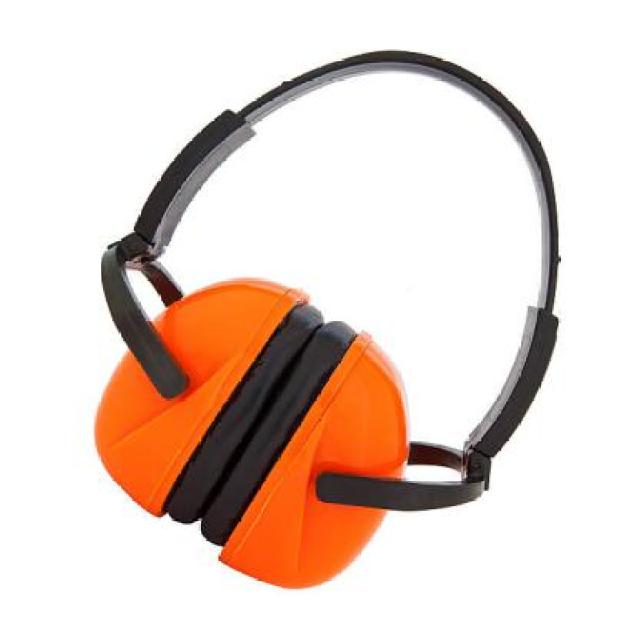Ear-protection: (102, 94, 563, 586)
